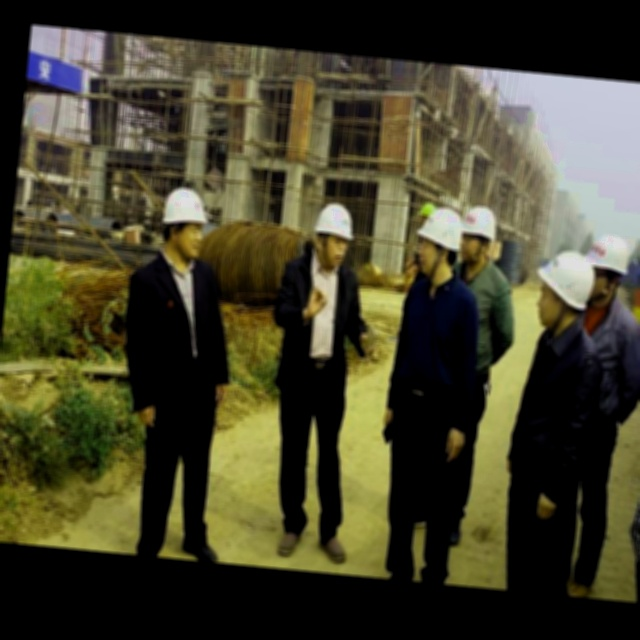Con_Casco: (160, 185, 209, 260), (311, 201, 355, 266)
Sin_Chaleco: (507, 321, 608, 492), (390, 274, 484, 408)
